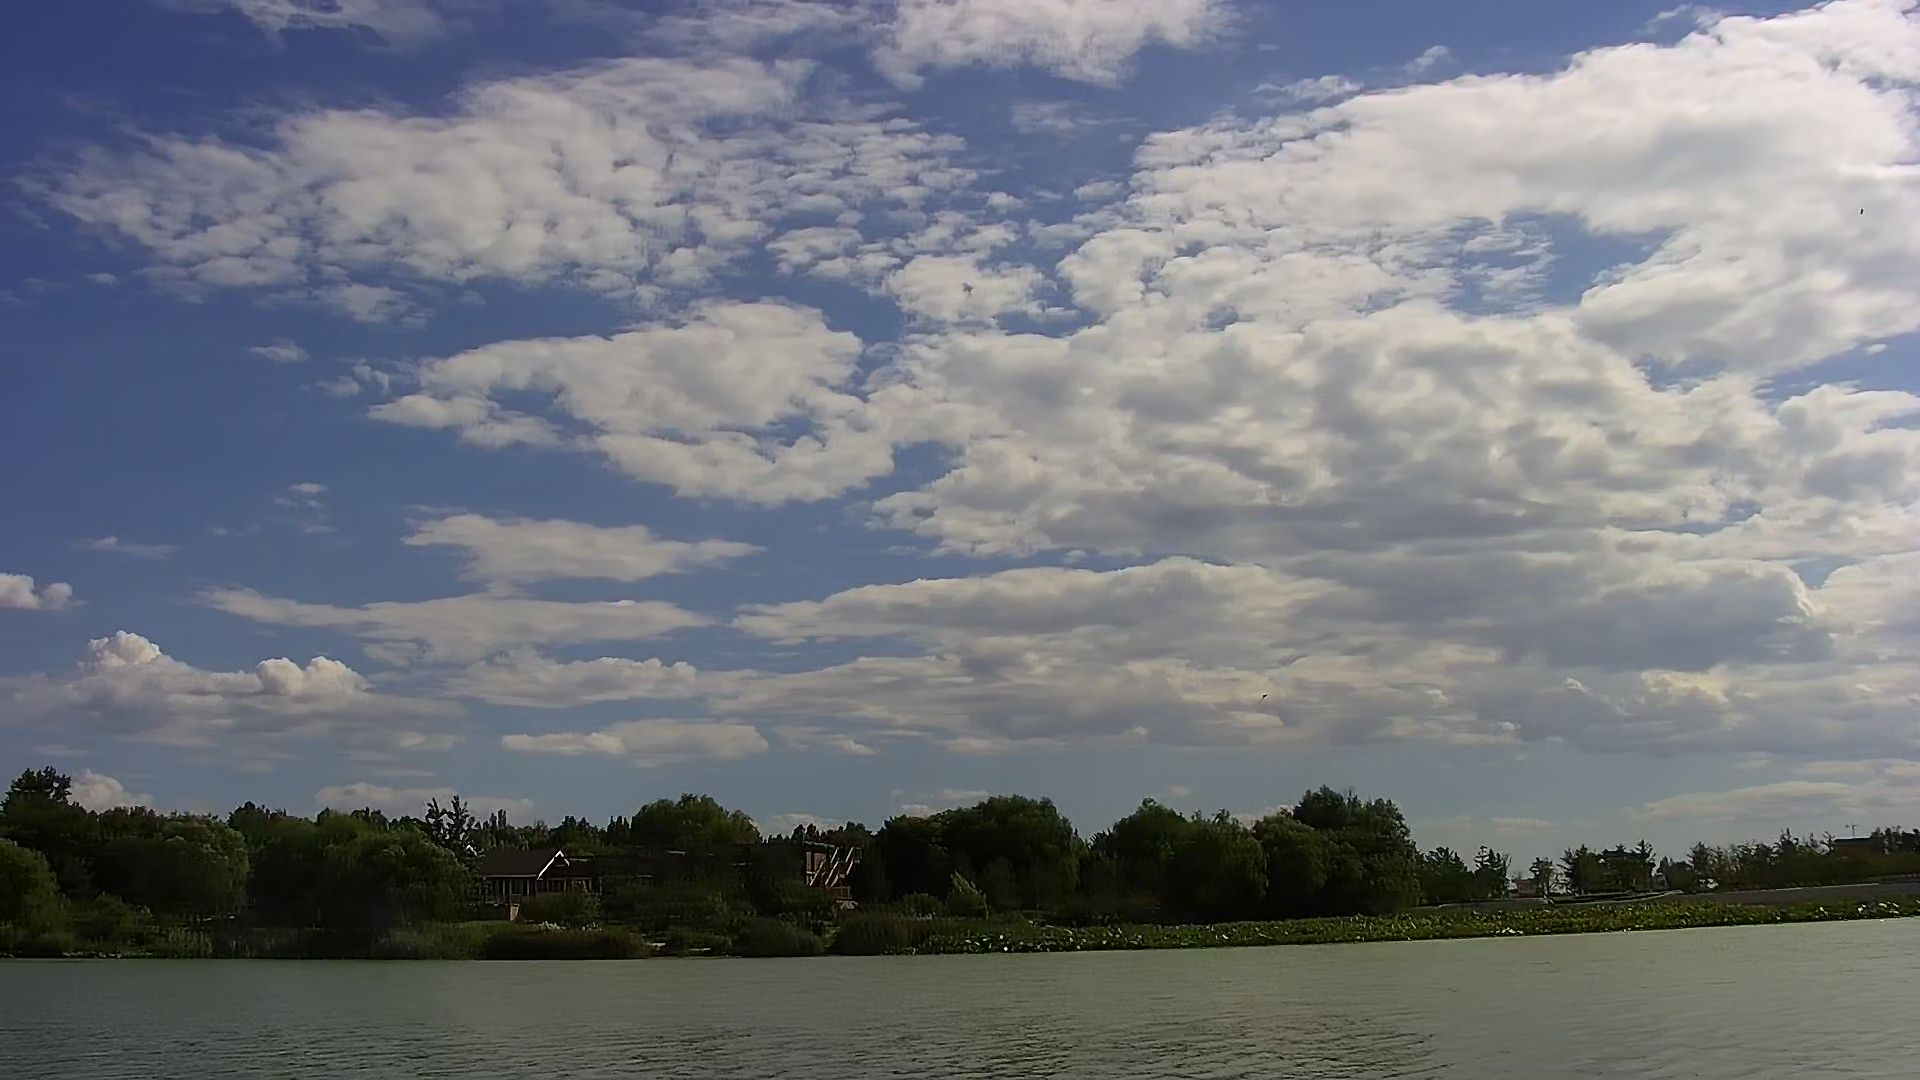grass: (1097, 890, 1919, 943)
